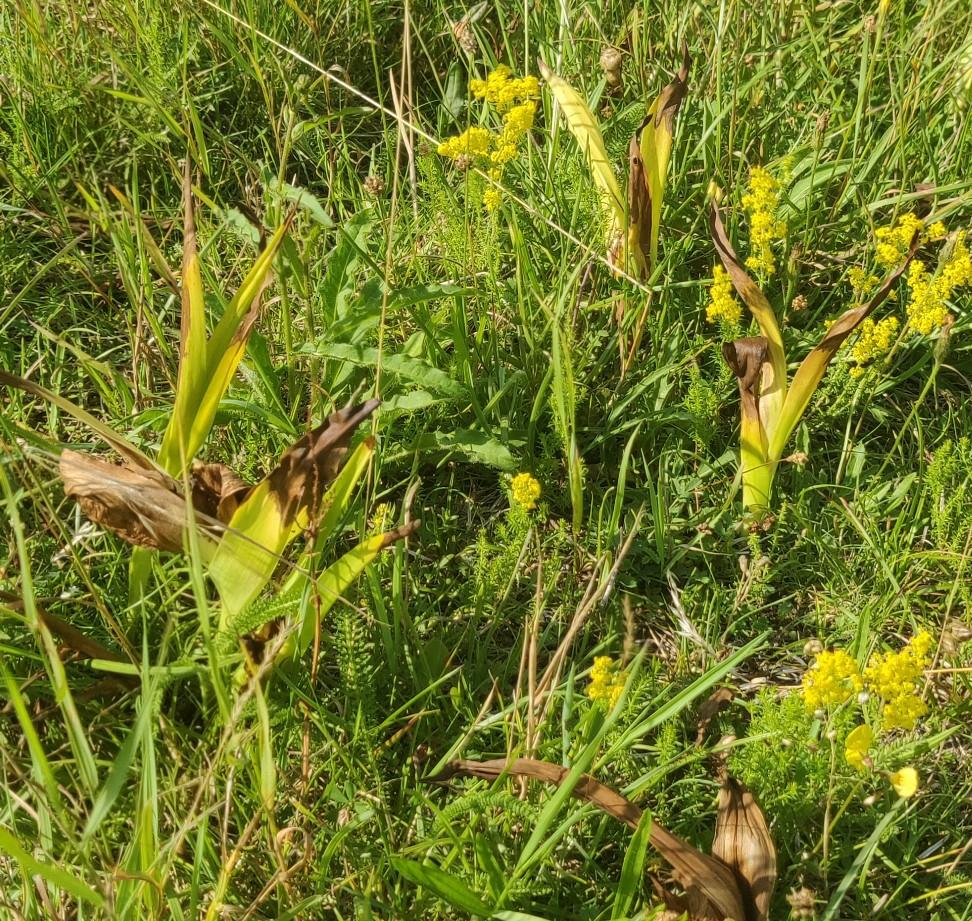Colchicum autumnale L: (65, 160, 391, 678), (695, 188, 931, 623), (521, 26, 698, 379)
